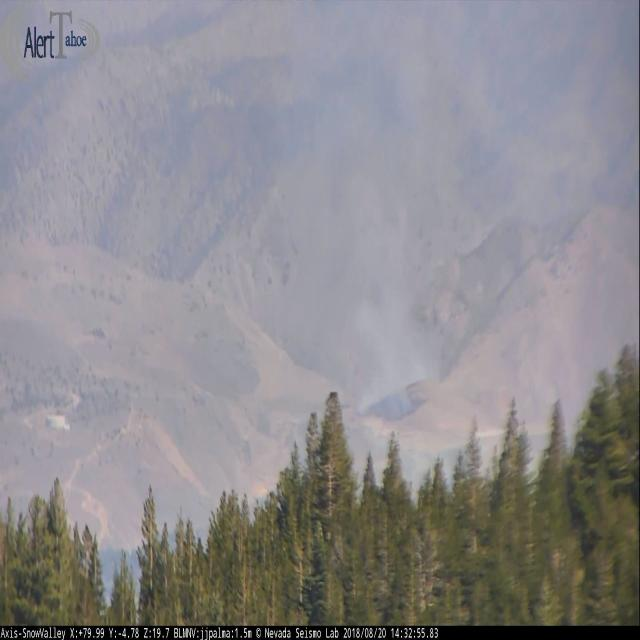smoke: (350, 178, 430, 412)
